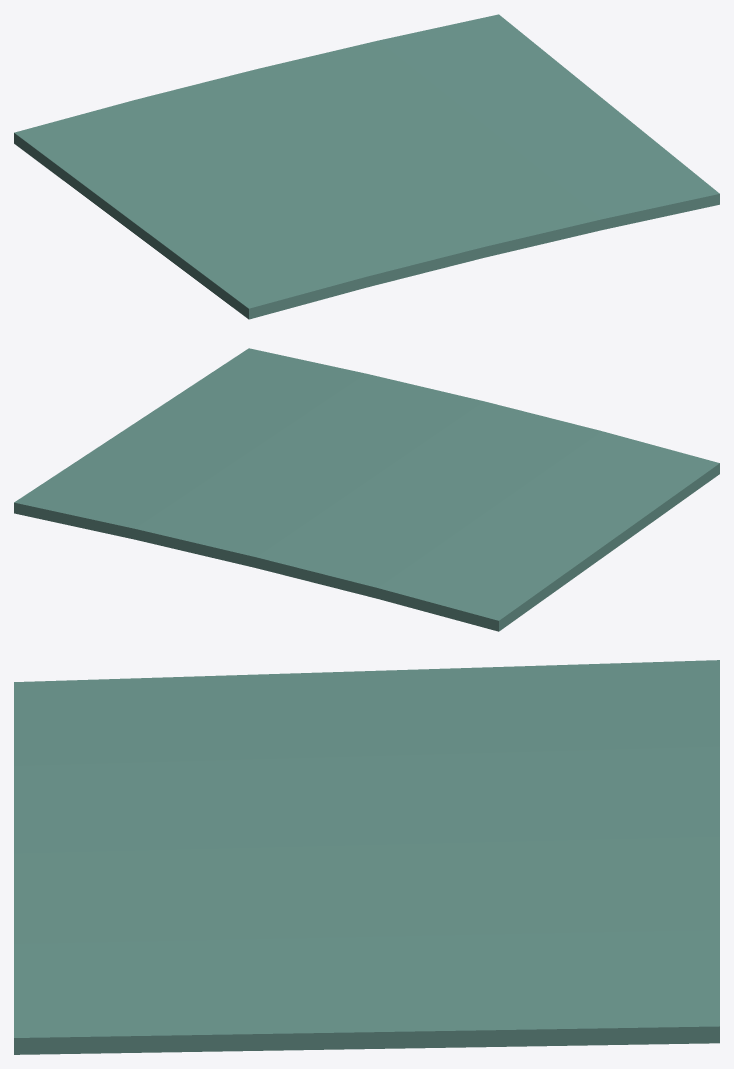
File: bonnet.glb
3 views of the same model, one above another, from view 1: azimuth 30°, elevation 25°; view 2: azimuth 150°, elevation 25°; view 3: azimuth 270°, elevation 25° (orthographic). The views are drawn at different scales.
Parts seen in each view (by area): view 1: bonnet; view 2: bonnet; view 3: bonnet.
Boxes of the visible parts, x1=… form: bonnet: x1=14, y1=14, x2=719, y2=319; bonnet: x1=14, y1=348, x2=719, y2=631; bonnet: x1=14, y1=660, x2=719, y2=1054.
Bounding box in the file's own units: 1.4 × 0.072 × 1.14.
